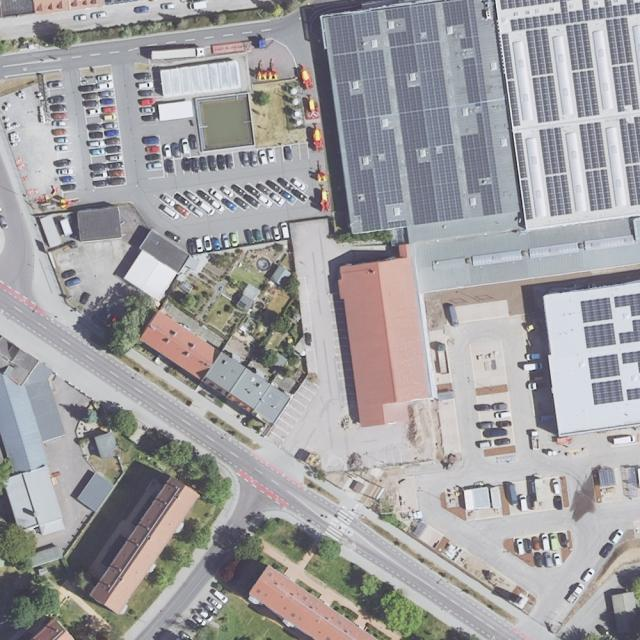PV: (327, 11, 407, 232), (385, 4, 463, 225), (443, 0, 503, 216), (500, 0, 640, 30), (538, 126, 567, 175), (612, 65, 640, 114), (526, 29, 554, 75), (532, 75, 559, 122), (580, 121, 606, 169), (566, 23, 593, 69), (574, 70, 599, 117), (606, 18, 632, 63), (585, 169, 612, 211), (546, 175, 572, 216), (619, 117, 640, 163), (581, 297, 613, 323), (583, 323, 616, 348), (592, 379, 624, 404), (588, 354, 619, 378), (507, 82, 522, 127), (625, 165, 640, 206), (614, 293, 640, 316), (617, 319, 640, 344), (502, 34, 514, 80), (515, 133, 527, 178), (621, 350, 640, 374), (522, 181, 533, 219), (628, 388, 640, 400)
